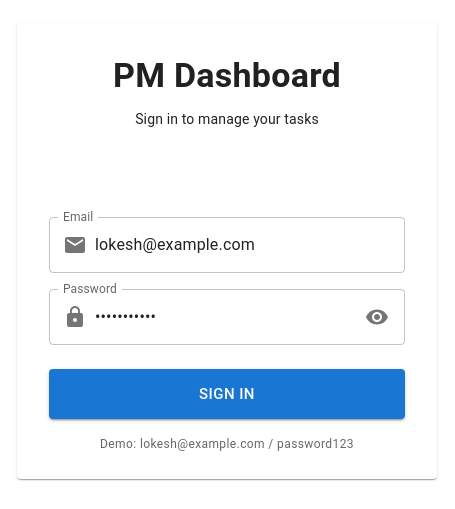
Scenario: LoginPage › shows validation error for invalid email
The image size is (455, 509).
Replace the text in the field labelled "Email" with "notanemail" at {"x": 250, "y": 245}, box [95,217,405,273]
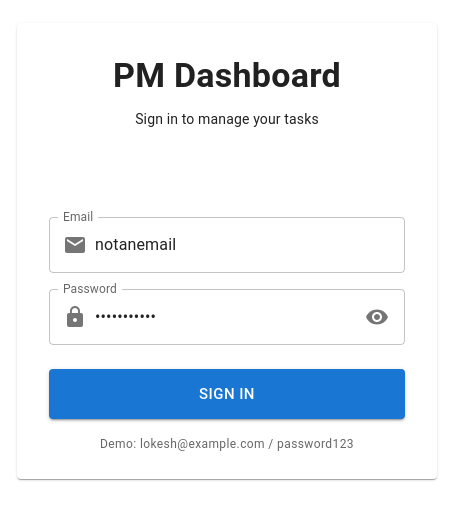
Click the button "Sign In".
click(227, 394)  # box [49,369,405,419]
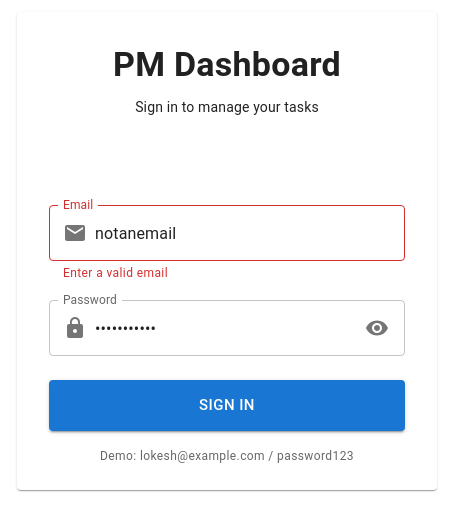
expect the text "Enter a valid email" is shown: met, box [63,266,168,280]
